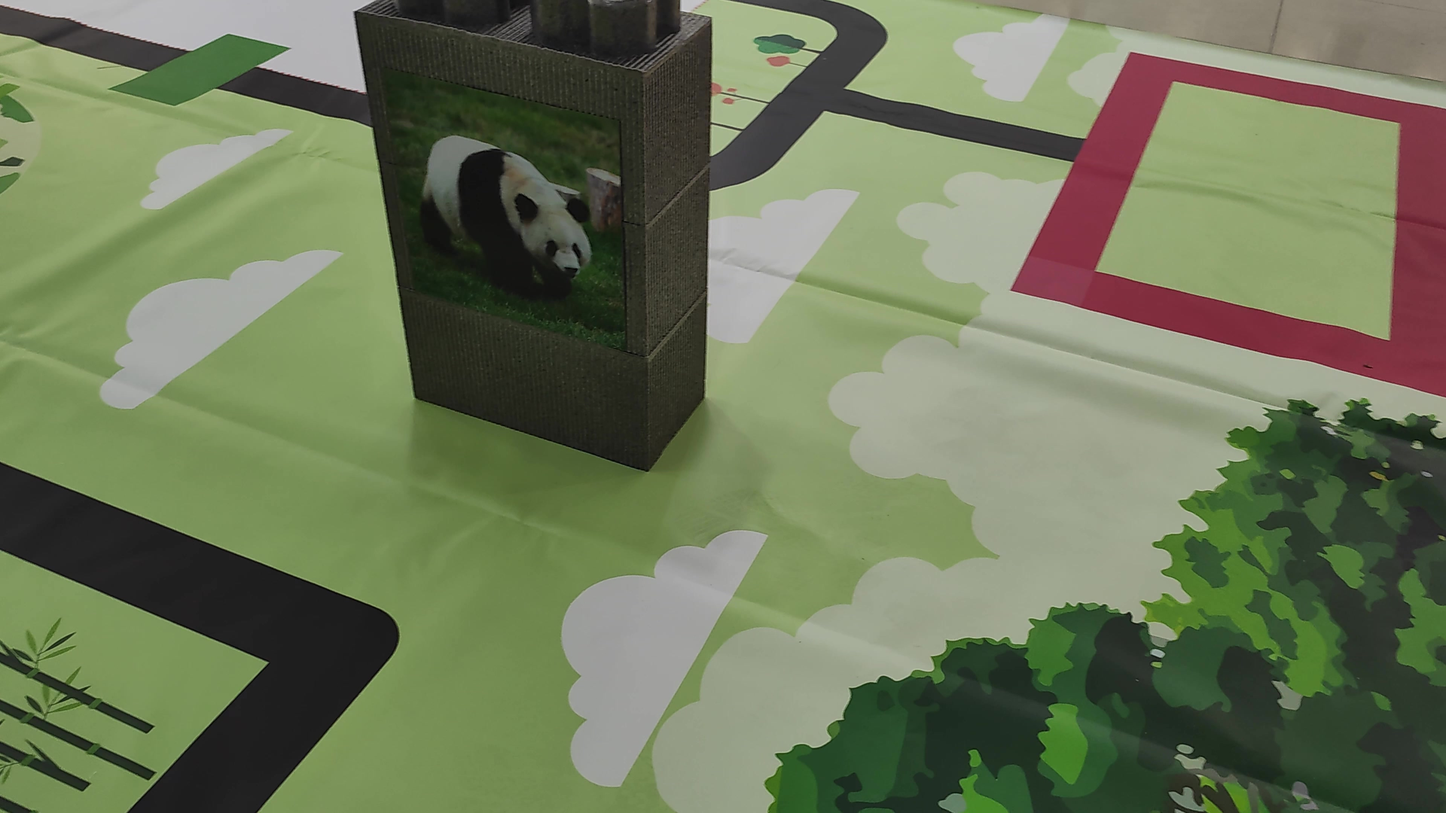panda: (401, 118, 613, 300)
